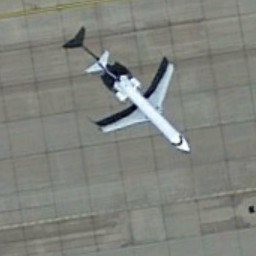Airplane: (72, 37, 199, 161)
